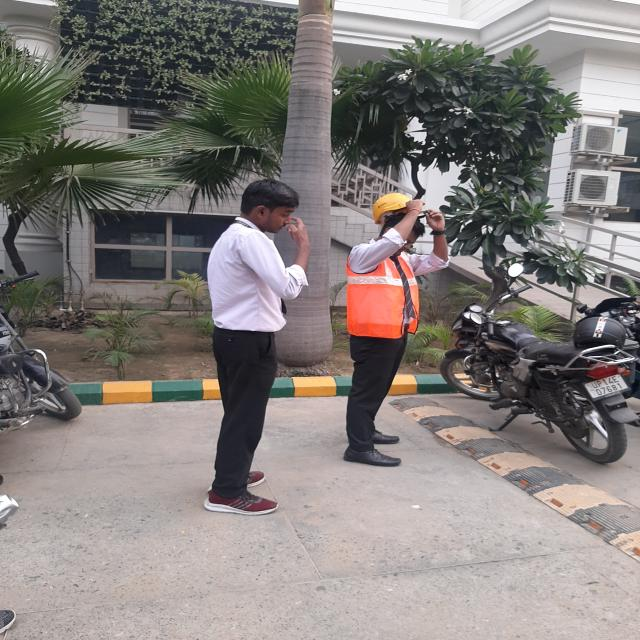safe: (344, 192, 432, 467)
unsafe: (201, 176, 310, 518)
